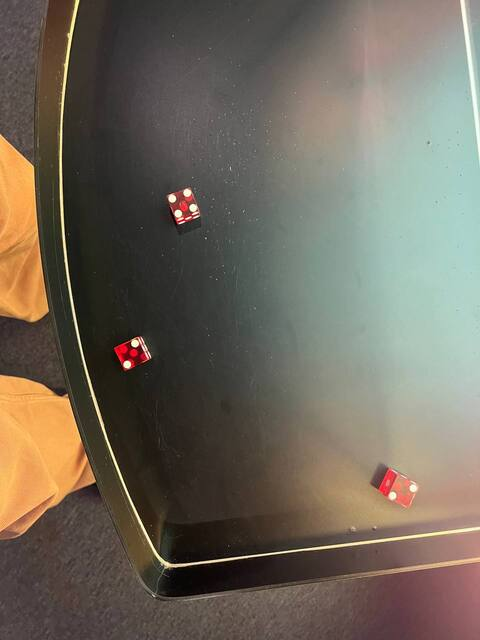four: (165, 185, 200, 220)
two: (113, 336, 150, 371), (386, 475, 421, 510)
